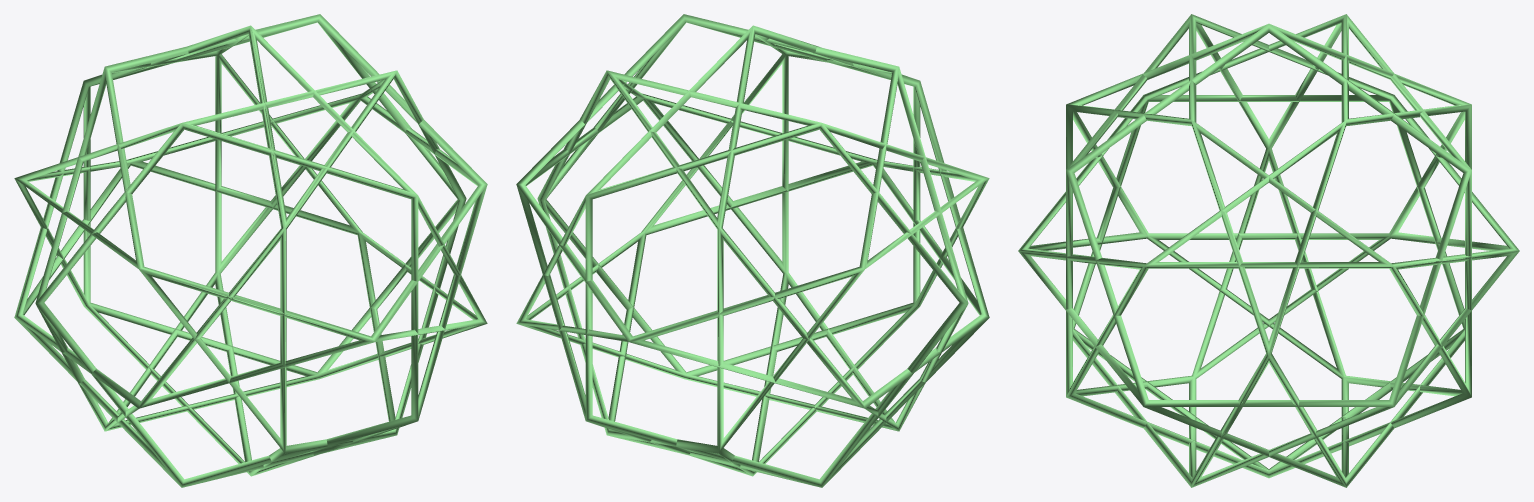
Rendered from Dodecadodecahedron1.glb.
3 views of the same model, side by side, from view 1: azimuth 30°, elevation 25°; view 2: azimuth 150°, elevation 25°; view 3: azimuth 270°, elevation 25° (orthographic).
Visible parts, largest first — view 1: Dodecadodecahedron; view 2: Dodecadodecahedron; view 3: Dodecadodecahedron.
Boxes of the visible parts, x1,y1,x2,y2 form: Dodecadodecahedron: [14, 14, 487, 487]; Dodecadodecahedron: [516, 14, 989, 487]; Dodecadodecahedron: [1018, 14, 1519, 487].
Size of the model in its own units: 2.04 by 2.04 by 2.04.
